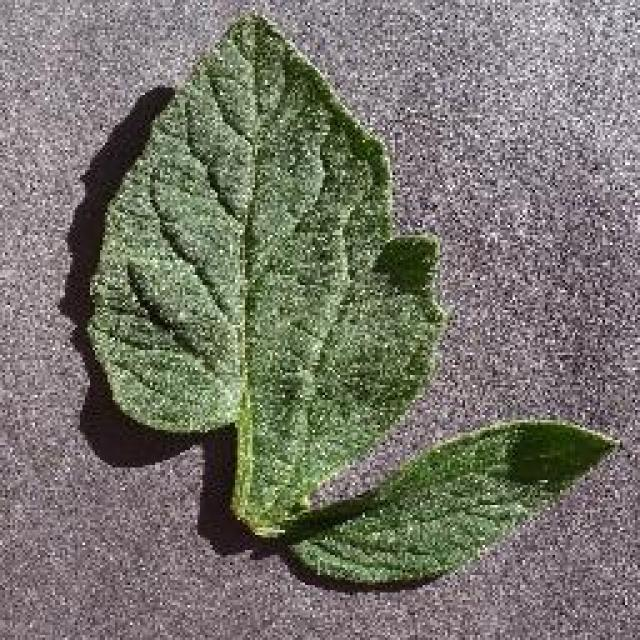Tomato healthy leaf: (85, 19, 443, 544), (280, 417, 618, 575)
